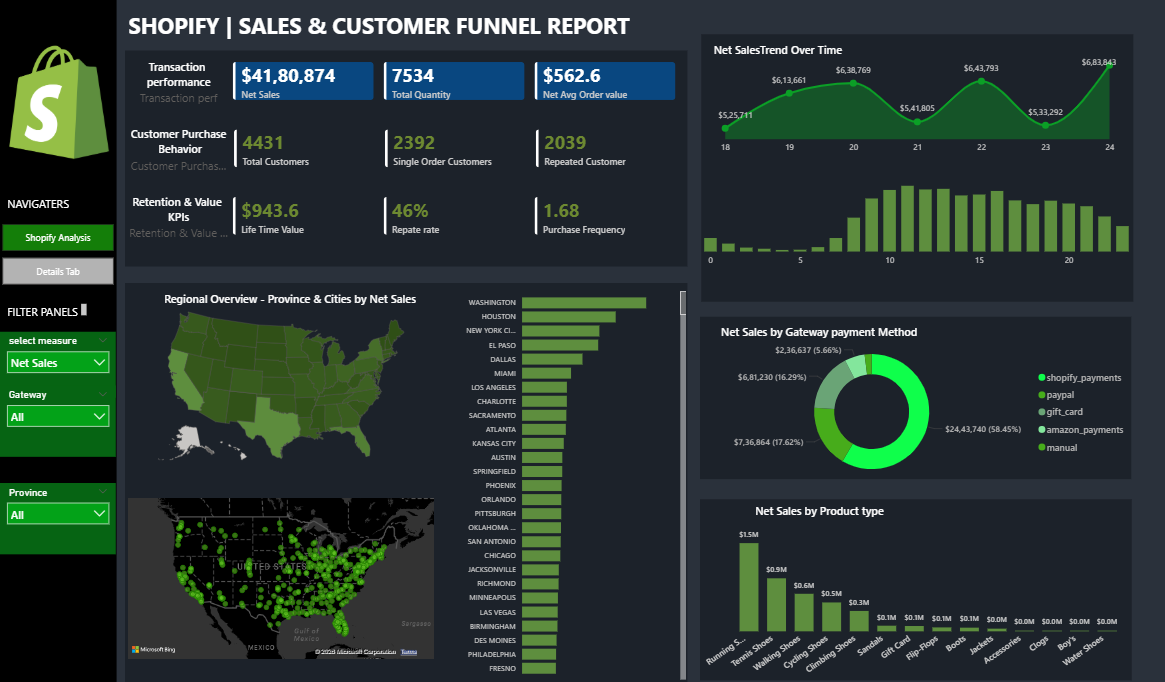

The dashboard page shown, as its layout file describes it:
{"tool":"powerbi","page":{"name":"Shopify Analysis","canvas":[1700,1000],"ordinal":0},"visuals":[{"type":"shape","box":[0,0,170,1000.5],"z":0},{"type":"textbox","box":[182.2,12.8,745.4,63.8],"z":1000},{"type":"shape","box":[182,77,820,315],"z":2000},{"type":"cardVisual","fields":{"Data":["shopify_sales.Net Sales","shopify_sales.Total Quantity","shopify_sales.Net Avg Order value"]},"box":[322.6,76.5,679.8,89.3],"z":3000},{"type":"card","fields":{"Values":["shopify_sales.Transaction perf"]},"box":[182.2,76.5,156.7,89.3],"z":4000},{"type":"cardVisual","fields":{"Data":["shopify_sales.Total Customers","shopify_sales.Single Order Customers","shopify_sales.Repeated Customer"]},"box":[324.4,175,679.8,89.3],"z":5000},{"type":"card","fields":{"Values":["shopify_sales.Customer Purchase Behavior"]},"box":[182.2,175,156.7,89.3],"z":6000},{"type":"cardVisual","fields":{"Data":["shopify_sales.Life Time Value","shopify_sales.Repate rate","shopify_sales.Purchase Frequency"]},"box":[322.6,273.4,679.8,89.3],"z":7000},{"type":"card","fields":{"Values":["shopify_sales.Retention & Value KPIs"]},"box":[182.2,273.4,156.7,89.3],"z":8000},{"type":"shape","box":[182.2,415.5,820.1,585],"z":9000},{"type":"shapeMap","fields":{"Value":["shopify_sales.Net Sales"],"Category":["shopify_sales.Billing Address Province"]},"box":[181.8,441.6,455.6,249.8],"z":10000},{"type":"slicer","fields":{"Values":["select measure 2.select measure"]},"box":[0,487,168.9,96.2],"z":11000},{"type":"map","fields":{"Category":["shopify_sales.Location"]},"box":[181.8,723.3,455.6,245.8],"z":12000},{"type":"clusteredBarChart","fields":{"Y":["shopify_sales.Net Sales"],"Category":["shopify_sales.CITY"]},"box":[663.4,415.6,341.7,583.5],"z":13000},{"type":"card","fields":{"Values":["shopify_sales.Map Title"]},"box":[181.8,417.6,481.5,48],"z":14000},{"type":"shape","box":[1023,52,630,390],"z":15000},{"type":"areaChart","fields":{"Y":["shopify_sales.Net Sales"],"Category":["shopify_sales.Invoice Date.Variation.Date Hierarchy.Day"]},"box":[1042.5,74.7,590.5,160.4],"z":16000},{"type":"columnChart","fields":{"Y":["shopify_sales.Net Sales"],"Category":["shopify_sales.Hour"]},"box":[1020.3,234.5,631.6,164.8],"z":17000},{"type":"card","fields":{"Values":["shopify_sales.Trend Title"]},"box":[1022.4,52.8,223.9,48.6],"z":18000},{"type":"shape","box":[1020.6,464.7,628.8,236.9],"z":19000},{"type":"donutChart","fields":{"Y":["shopify_sales.Net Sales"],"Category":["shopify_sales.Gateway"]},"box":[1024.2,490.2,628.8,226],"z":20000},{"type":"card","fields":{"Values":["shopify_sales.Product Title"]},"box":[1019.8,731.7,327,26.6],"z":21000},{"type":"shape","box":[1019.8,731.7,629.5,265.7],"z":22000},{"type":"columnChart","fields":{"Y":["shopify_sales.Net Sales"],"Category":["shopify_sales.Product Type"]},"box":[1021.9,756.2,627.4,245.3],"z":23000},{"type":"card","fields":{"Values":["shopify_sales.Gateway Title"]},"box":[1032.4,474.7,326.2,25.5],"z":24000},{"type":"card","fields":{"Values":["shopify_sales.Product Title"]},"box":[1032.1,733.7,327,26.6],"z":25000},{"type":"image","box":[6.1,69.5,161.5,165.5],"z":26000},{"type":"slicer","fields":{"Values":["shopify_sales.Gateway"]},"box":[0,565.5,168.9,104.1],"z":27000},{"type":"slicer","fields":{"Values":["shopify_sales.Billing Address Province"]},"box":[0,706.9,168.9,104.1],"z":28000},{"type":"pageNavigator","box":[3.9,329.9,163,88.4],"z":29000},{"type":"textbox","box":[5.9,284.7,102.1,31.4],"z":30000},{"type":"textbox","box":[5.9,441.8,125.7,35.3],"z":31000}]}

Visuals, with their boxes on the page's 1700x1000 design canvas (x1, y1, x2, y2). These are canvas units, not pixel positions in the 1165x682 screenshot, which may show the page scaled, cropped or inside an application window:
shape: [x1=0, y1=0, x2=170, y2=1000]
textbox: [x1=182, y1=13, x2=928, y2=77]
shape: [x1=182, y1=77, x2=1002, y2=392]
cardVisual - shopify_sales.Net Sales x shopify_sales.Total Quantity: [x1=323, y1=76, x2=1002, y2=166]
card - shopify_sales.Transaction perf: [x1=182, y1=76, x2=339, y2=166]
cardVisual - shopify_sales.Total Customers x shopify_sales.Single Order Customers: [x1=324, y1=175, x2=1004, y2=264]
card - shopify_sales.Customer Purchase Behavior: [x1=182, y1=175, x2=339, y2=264]
cardVisual - shopify_sales.Life Time Value x shopify_sales.Repate rate: [x1=323, y1=273, x2=1002, y2=363]
card - shopify_sales.Retention & Value KPIs: [x1=182, y1=273, x2=339, y2=363]
shape: [x1=182, y1=416, x2=1002, y2=1000]
shapeMap - shopify_sales.Net Sales x shopify_sales.Billing Address Province: [x1=182, y1=442, x2=637, y2=691]
slicer - select measure 2.select measure: [x1=0, y1=487, x2=169, y2=583]
map - shopify_sales.Location: [x1=182, y1=723, x2=637, y2=969]
clusteredBarChart - shopify_sales.Net Sales x shopify_sales.CITY: [x1=663, y1=416, x2=1005, y2=999]
card - shopify_sales.Map Title: [x1=182, y1=418, x2=663, y2=466]
shape: [x1=1023, y1=52, x2=1653, y2=442]
areaChart - shopify_sales.Net Sales x shopify_sales.Invoice Date.Variation.Date Hierarchy.Day: [x1=1042, y1=75, x2=1633, y2=235]
columnChart - shopify_sales.Net Sales x shopify_sales.Hour: [x1=1020, y1=234, x2=1652, y2=399]
card - shopify_sales.Trend Title: [x1=1022, y1=53, x2=1246, y2=101]
shape: [x1=1021, y1=465, x2=1649, y2=702]
donutChart - shopify_sales.Net Sales x shopify_sales.Gateway: [x1=1024, y1=490, x2=1653, y2=716]
card - shopify_sales.Product Title: [x1=1020, y1=732, x2=1347, y2=758]
shape: [x1=1020, y1=732, x2=1649, y2=997]
columnChart - shopify_sales.Net Sales x shopify_sales.Product Type: [x1=1022, y1=756, x2=1649, y2=1002]
card - shopify_sales.Gateway Title: [x1=1032, y1=475, x2=1359, y2=500]
card - shopify_sales.Product Title: [x1=1032, y1=734, x2=1359, y2=760]
image: [x1=6, y1=70, x2=168, y2=235]
slicer - shopify_sales.Gateway: [x1=0, y1=566, x2=169, y2=670]
slicer - shopify_sales.Billing Address Province: [x1=0, y1=707, x2=169, y2=811]
pageNavigator: [x1=4, y1=330, x2=167, y2=418]
textbox: [x1=6, y1=285, x2=108, y2=316]
textbox: [x1=6, y1=442, x2=132, y2=477]
